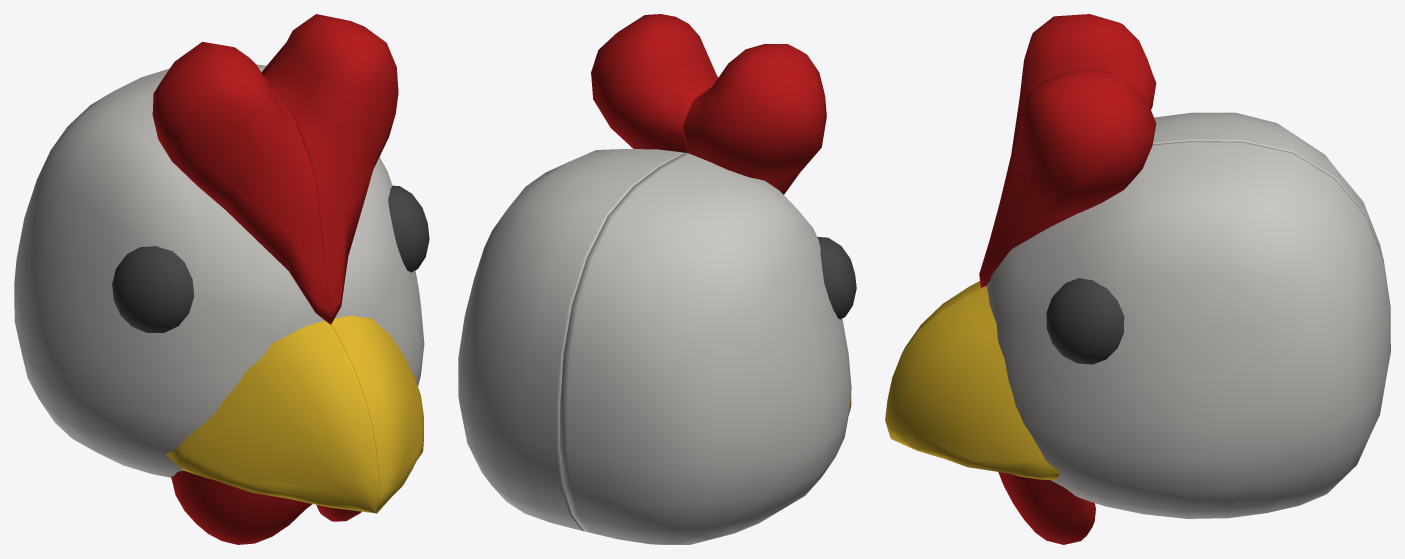
Rendered from SM_Hen_01a.fbx.
The picture shows the model from 3 angles, left to right: view 1: azimuth 30°, elevation 25°; view 2: azimuth 150°, elevation 25°; view 3: azimuth 270°, elevation 25°; orthographic projection. The views are drawn at different scales.
Parts seen in each view (by area): view 1: Hen_02, Hen_01; view 2: Hen_02, Hen_01; view 3: Hen_01, Hen_02.
Boxes of the visible parts, left/top/right/bottom form: Hen_02: left=14, top=42, right=379, bottom=544; Hen_01: left=257, top=14, right=429, bottom=521; Hen_02: left=560, top=44, right=856, bottom=544; Hen_01: left=458, top=14, right=718, bottom=531; Hen_01: left=885, top=68, right=1390, bottom=544; Hen_02: left=902, top=14, right=1383, bottom=352.
Bounding box in the file's own units: 21.56 × 28.57 × 27.79.
